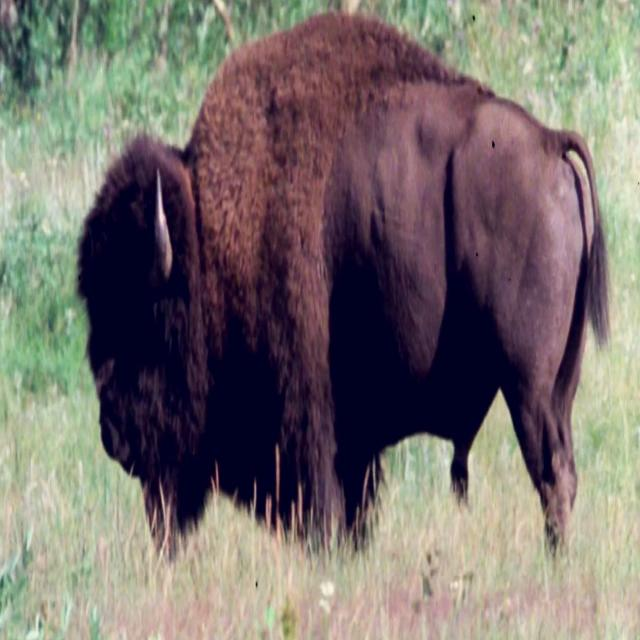bison: (78, 13, 608, 551)
